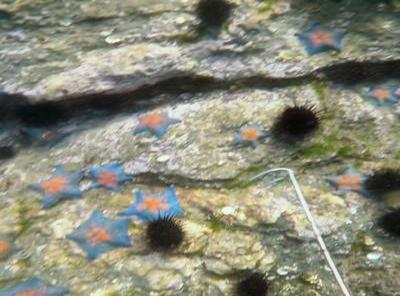urchin: (145, 215, 186, 253), (277, 101, 320, 136), (192, 0, 234, 27), (232, 270, 273, 296), (365, 162, 400, 192), (375, 202, 400, 235)
